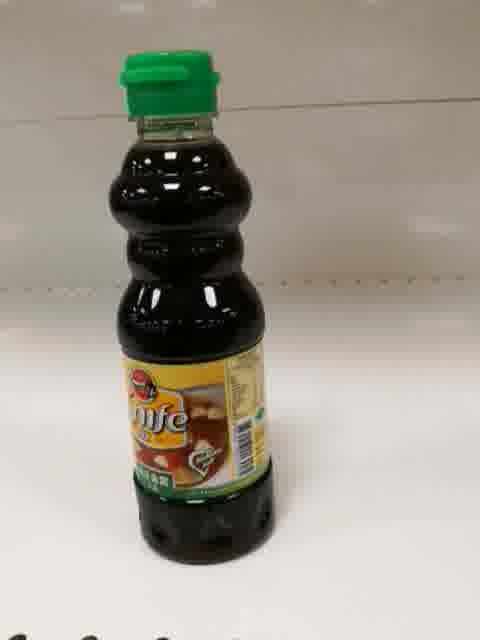cookingoil: (106, 48, 277, 569)
